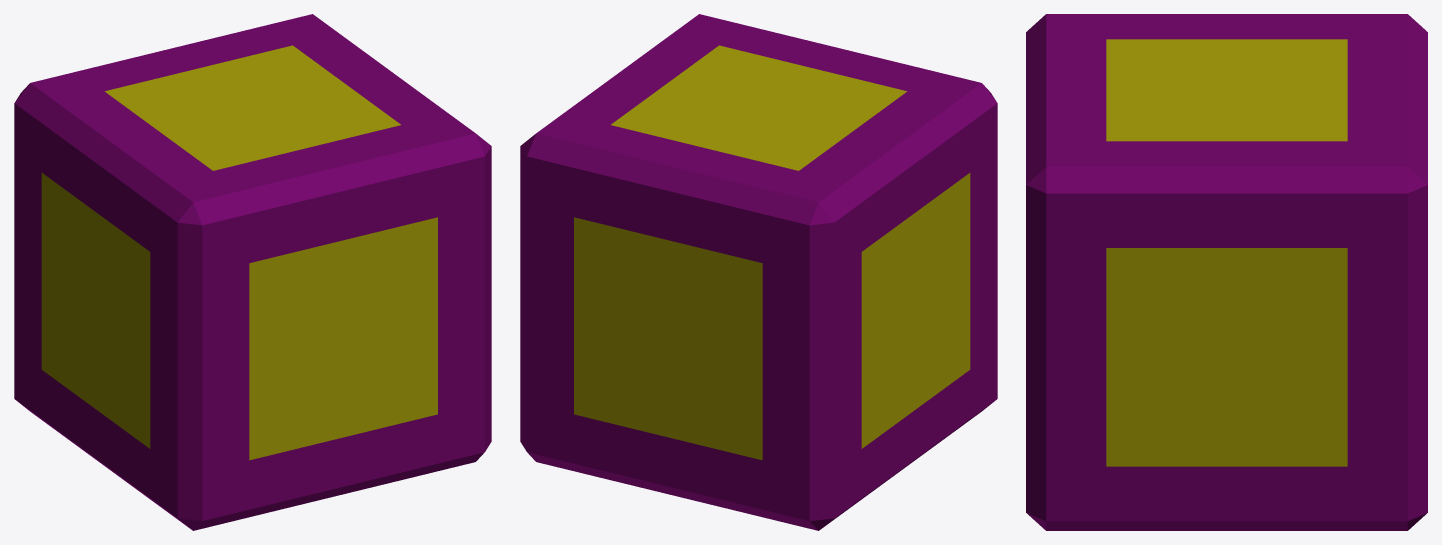
The model's file is stone-09.glb.
3 renders of one model, left to right at view 1: azimuth 30°, elevation 25°; view 2: azimuth 150°, elevation 25°; view 3: azimuth 270°, elevation 25°, orthographic. The views are drawn at different scales.
Visible parts, largest first — view 1: m.base, y-Cube, x-Cube, z-Cube; view 2: m.base, y-Cube, x-Cube, z-Cube; view 3: m.base, x-Cube, z-Cube.
Boxes of the visible parts, x1,y1,x2,y2 form: m.base: (14,14,491,530); y-Cube: (249,217,437,460); x-Cube: (41,173,150,448); z-Cube: (105,45,400,170); m.base: (520,14,997,530); y-Cube: (574,217,762,460); x-Cube: (861,173,970,448); z-Cube: (611,45,906,170); m.base: (1026,14,1427,530); x-Cube: (1106,248,1347,466); z-Cube: (1106,39,1347,141).
Size of the model in its own units: 1 by 1 by 1.
